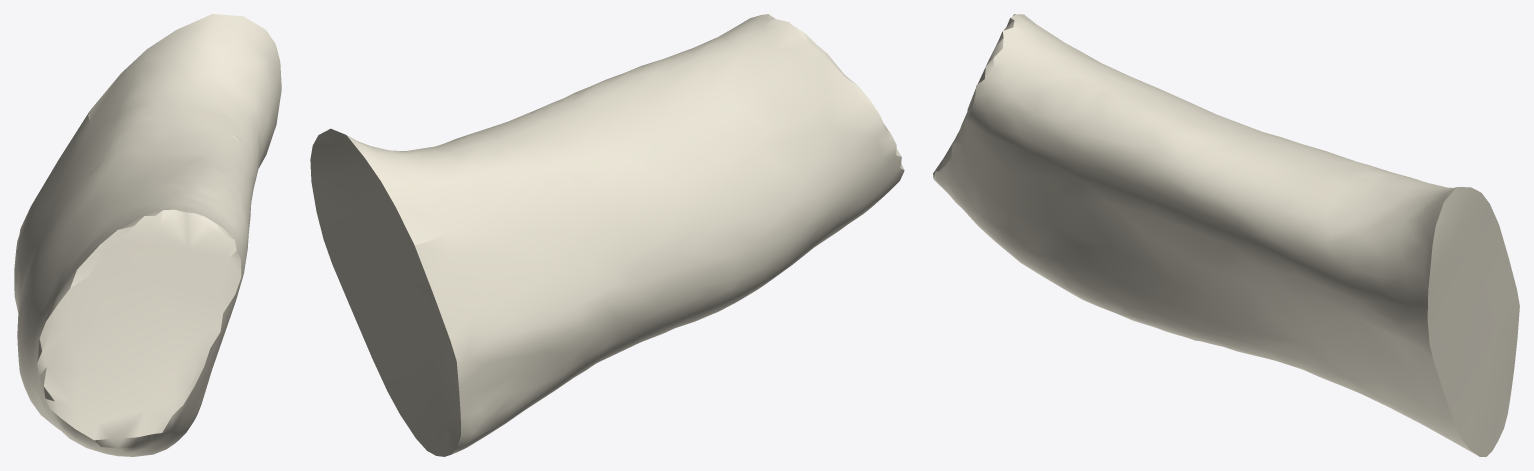
The model's file is fma304330_mm1609.glb.
3 views of the same model, side by side, from view 1: azimuth 30°, elevation 25°; view 2: azimuth 150°, elevation 25°; view 3: azimuth 270°, elevation 25° (orthographic). The views are drawn at different scales.
Visible parts, largest first — view 1: FMA304330_MM1609; view 2: FMA304330_MM1609; view 3: FMA304330_MM1609.
Part boxes in pixels (x1,y1,x2,y2): FMA304330_MM1609: (14,14,281,456); FMA304330_MM1609: (310,14,904,456); FMA304330_MM1609: (933,14,1519,456).
Size of the model in its own units: 0.0336 by 0.0253 by 0.0377.
